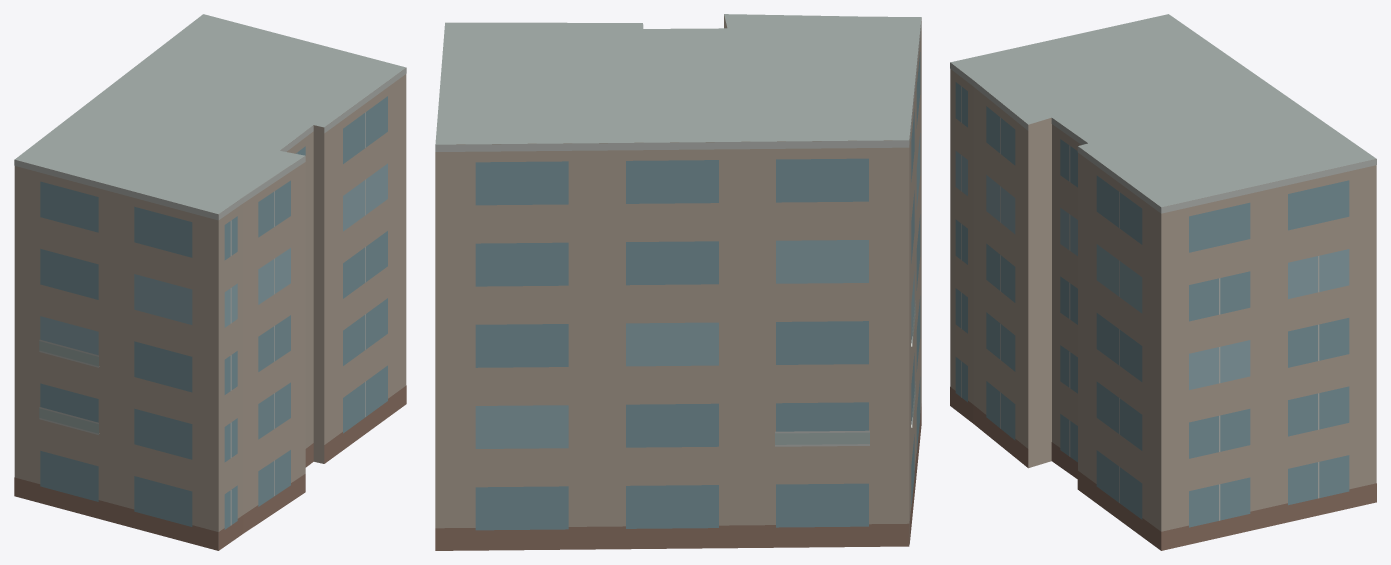
File: survey-upis-33006478.glb
The picture shows the model from 3 angles, left to right: view 1: azimuth 30°, elevation 25°; view 2: azimuth 150°, elevation 25°; view 3: azimuth 270°, elevation 25°; orthographic projection. The views are drawn at different scales.
Visible parts, largest first — view 1: survey-upis-33006478.tmp; view 2: survey-upis-33006478.tmp; view 3: survey-upis-33006478.tmp.
Part boxes in pixels (bbox=[...]): survey-upis-33006478.tmp: bbox=[14, 14, 406, 550]; survey-upis-33006478.tmp: bbox=[435, 14, 921, 550]; survey-upis-33006478.tmp: bbox=[950, 14, 1376, 550].
Size of the model in its own units: 16.07 by 13.3 by 14.98.
